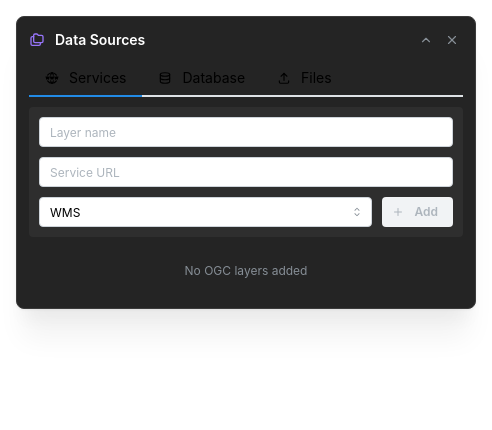
DataSourcesPanel › shows one tab body at a time and switches between them
Expected: the field with placeholder "Service URL" is shown, [39,157,453,187]
Expected: the text "Drop files here" is not shown
Step 1. Click the tab "Database" → (202, 79), box [142,61,261,97]
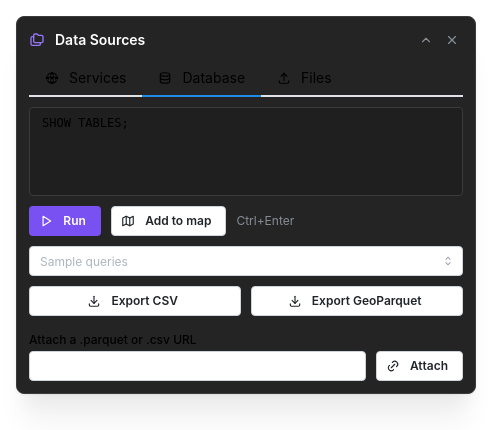
Expected: the field with placeholder "Service URL" is not shown
Expected: the text box with test id "sql-editor" is shown, [29,107,463,196]
Step 2. Click the tab "Files" → (304, 79), box [261,61,348,97]
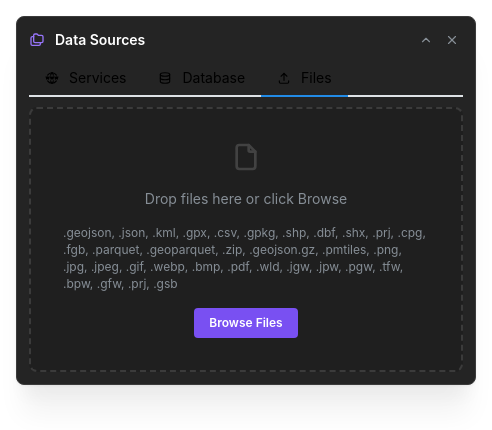
Expected: the text "Drop files here or click Browse" is shown, [145,189,347,209]
Expected: the text box with test id "sql-editor" is gone
